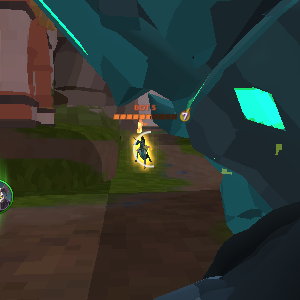model: (135, 131, 154, 169)
